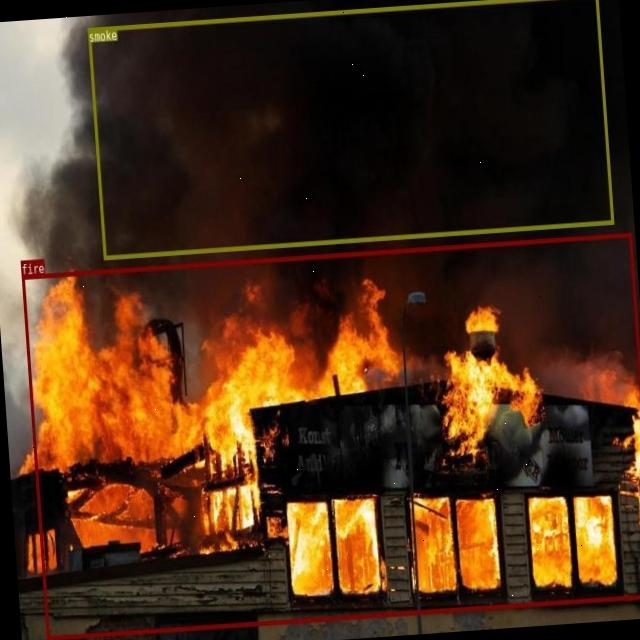fire: (21, 232, 640, 639)
smoke: (87, 0, 613, 259)
